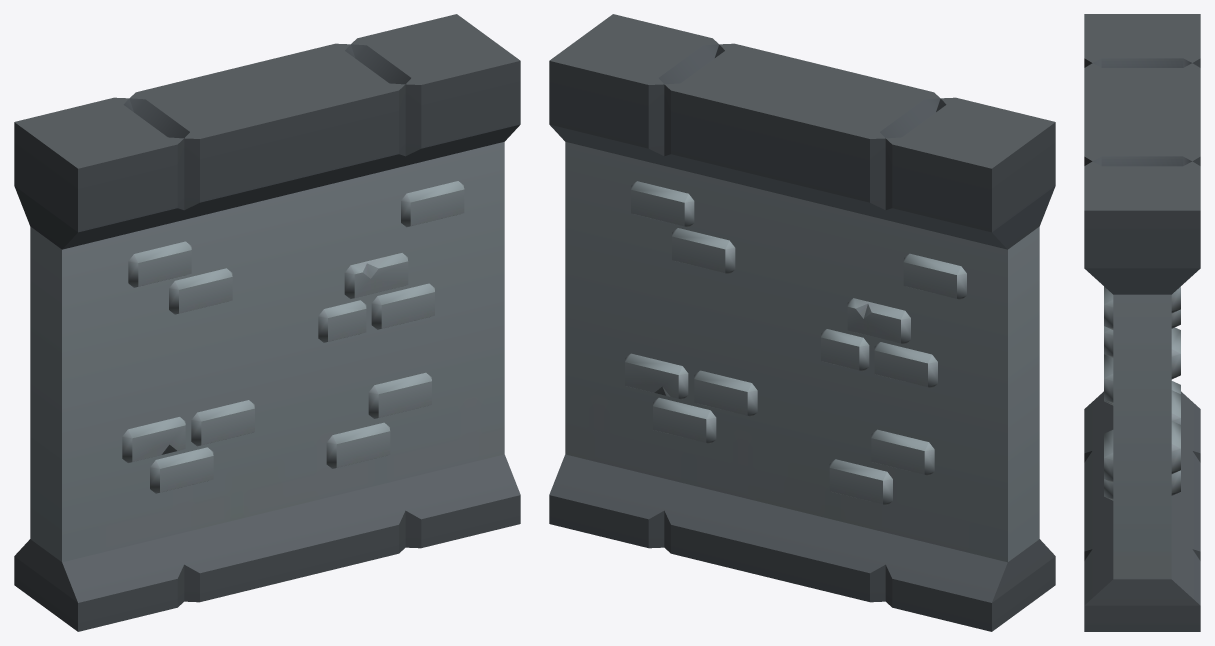
File: wall-gltf.glb
3 views of the same model, side by side, from view 1: azimuth 30°, elevation 25°; view 2: azimuth 150°, elevation 25°; view 3: azimuth 270°, elevation 25° (orthographic). The views are drawn at different scales.
Parts seen in each view (by area): view 1: wall; view 2: wall; view 3: wall.
Part boxes in pixels (left/top/right/bottom): wall: left=14, top=14, right=520, bottom=631; wall: left=549, top=14, right=1055, bottom=631; wall: left=1084, top=14, right=1200, bottom=631.
Bounding box in the file's own units: 4 × 4 × 1.
1 material, 1 textured.
